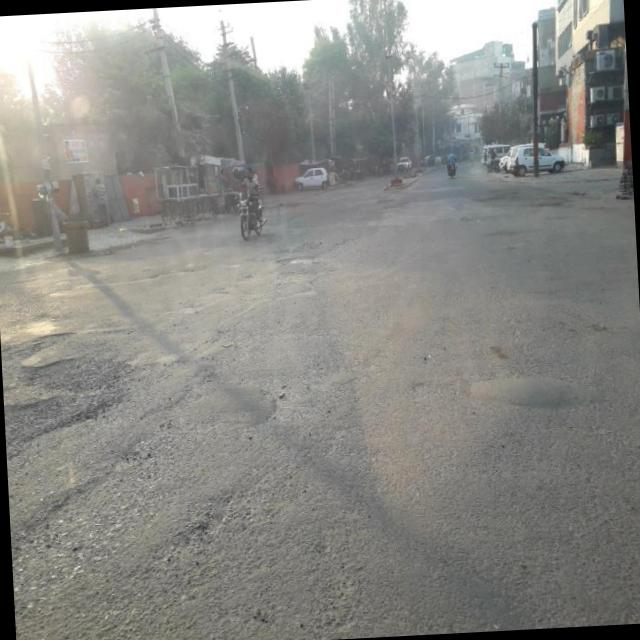pothole: (0, 306, 169, 596), (154, 236, 328, 428)
